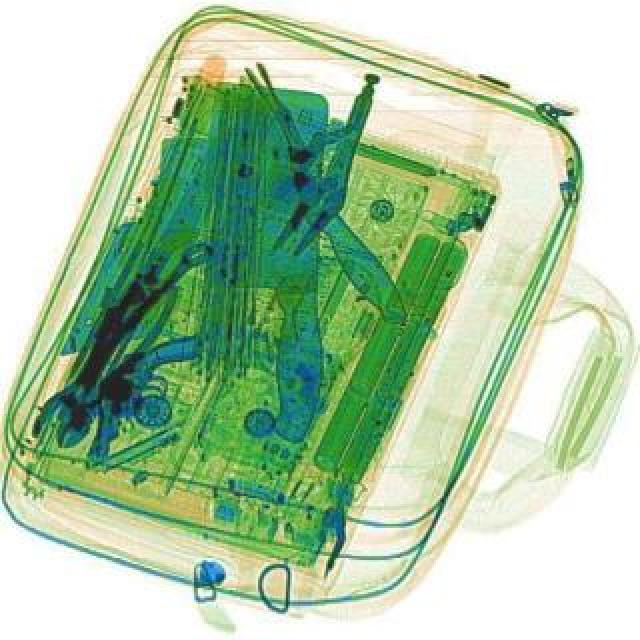gun: (90, 340, 206, 464)
knife: (220, 74, 414, 338), (198, 86, 328, 446)
scissors: (20, 232, 220, 456)
wrench: (32, 266, 180, 462)
